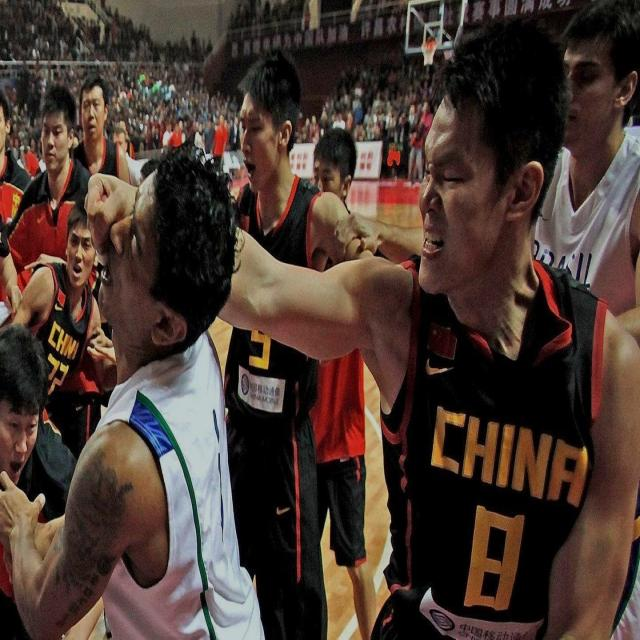fight: (0, 3, 640, 640)
non-fight: (220, 42, 373, 640), (527, 0, 640, 346), (306, 117, 378, 640), (14, 184, 117, 409), (0, 74, 96, 310), (71, 67, 146, 180)
